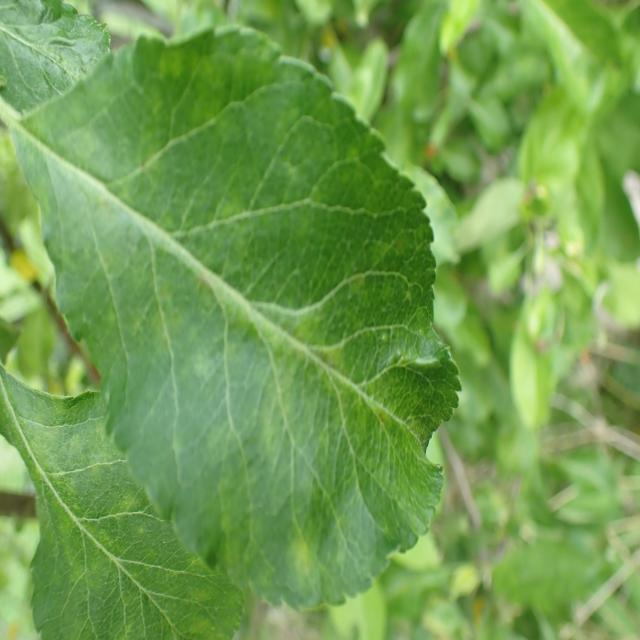scab: (38, 70, 430, 525)
